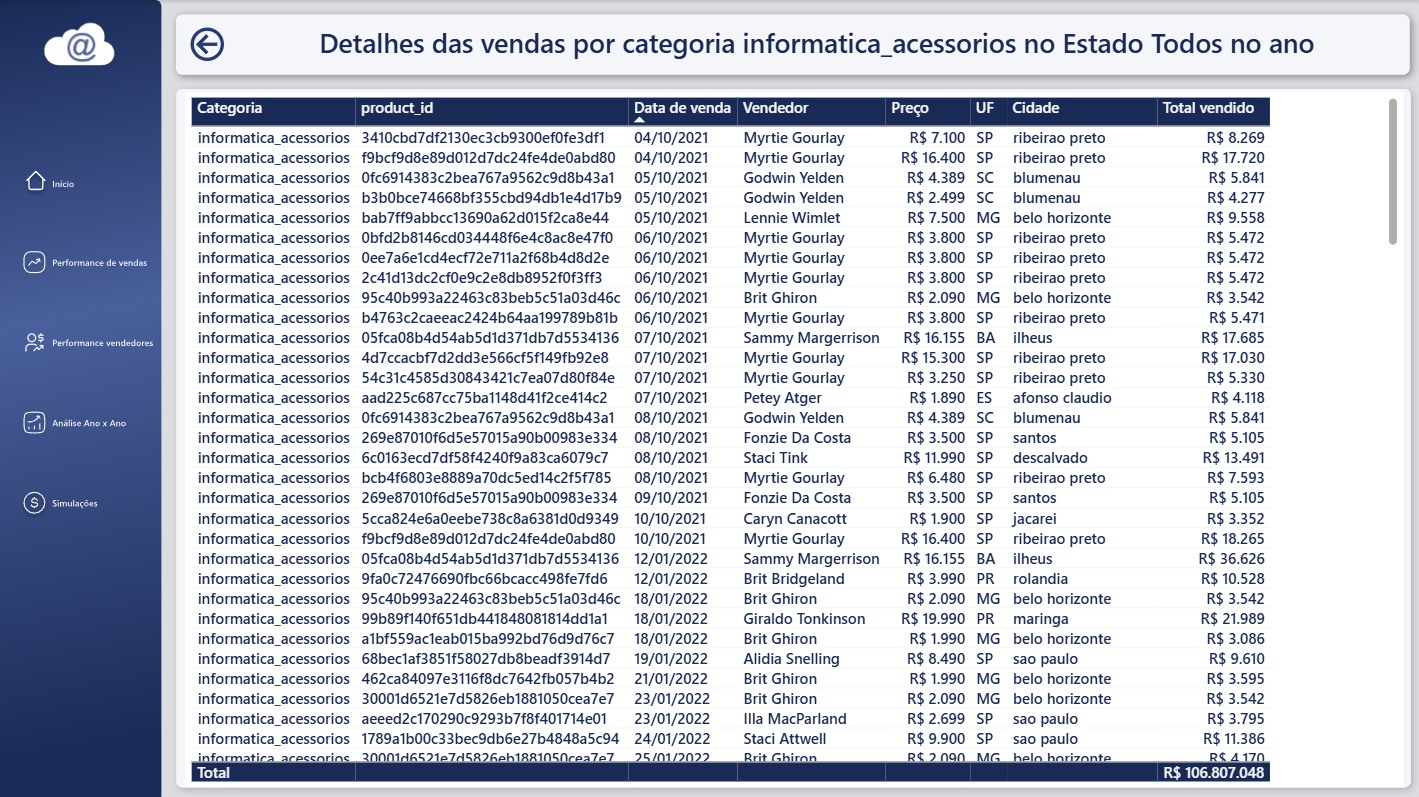

What the dashboard file says about the page in this screenshot:
{"tool":"powerbi","page":{"name":"Detalhes","canvas":[1280,720],"ordinal":6},"visuals":[{"type":"tableEx","fields":{"Values":["dProdutos.product_category_name","dProdutos.product_id","fVendas.dtVendas","dVendedores.nome","fVendas.price","dVendedores.Estado","dVendedores.Cidade","Medidas.Total vendido"]},"box":[168,82.5,1094.3,623.8],"z":0},{"type":"actionButton","box":[168,20,100,40],"z":1000},{"type":"card","fields":{"Values":["Medidas.Título Detalhes"]},"box":[207,16,1062,47],"z":2000},{"type":"pageNavigator","box":[0,137.5,143.4,349.7],"z":2001}]}

Visuals, with their boxes on the page's 1280x720 design canvas (x1, y1, x2, y2). These are canvas units, not pixel positions in the 1419x797 screenshot, which may show the page scaled, cropped or inside an application window:
tableEx - dProdutos.product_category_name x dProdutos.product_id: x1=168 y1=82 x2=1262 y2=706
actionButton: x1=168 y1=20 x2=268 y2=60
card - Medidas.Título Detalhes: x1=207 y1=16 x2=1269 y2=63
pageNavigator: x1=0 y1=138 x2=143 y2=487
